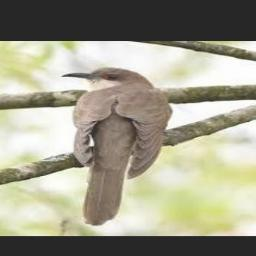Cuckoo: (62, 67, 171, 226)
